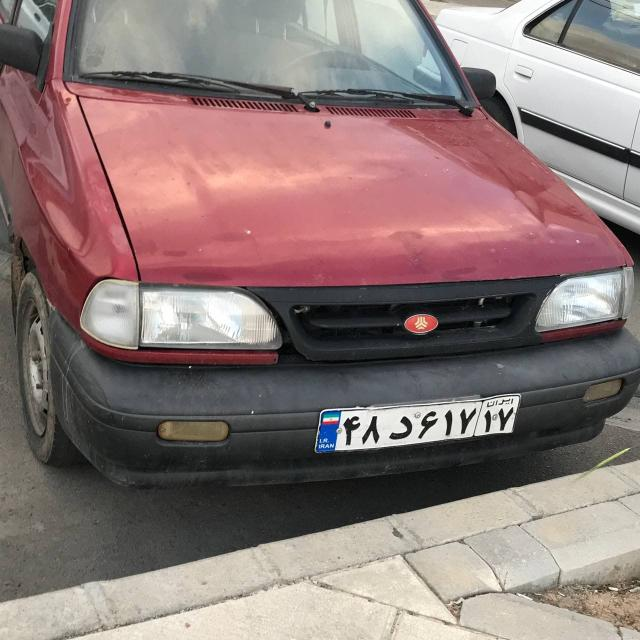Plates: (311, 392, 524, 453)
